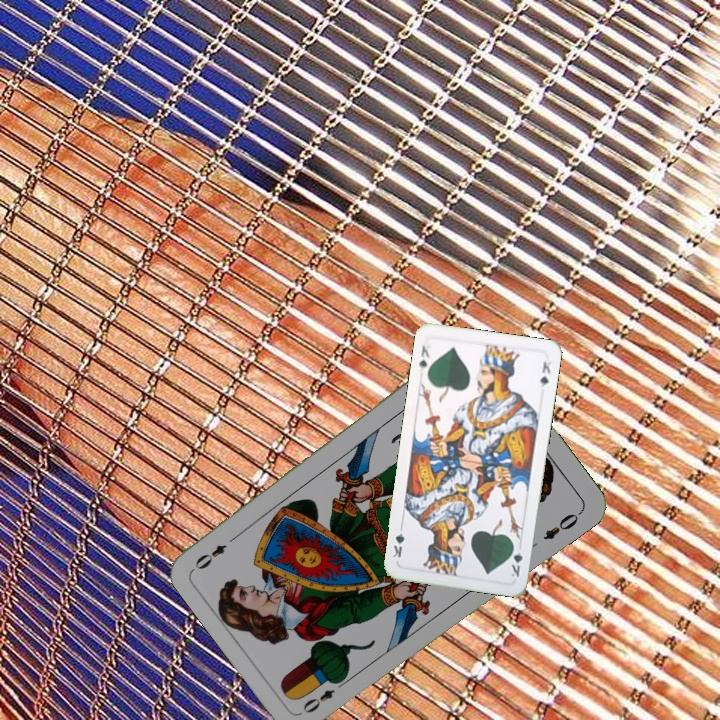EO: (298, 675, 350, 716)
GK: (507, 540, 525, 579), (415, 341, 432, 374)
